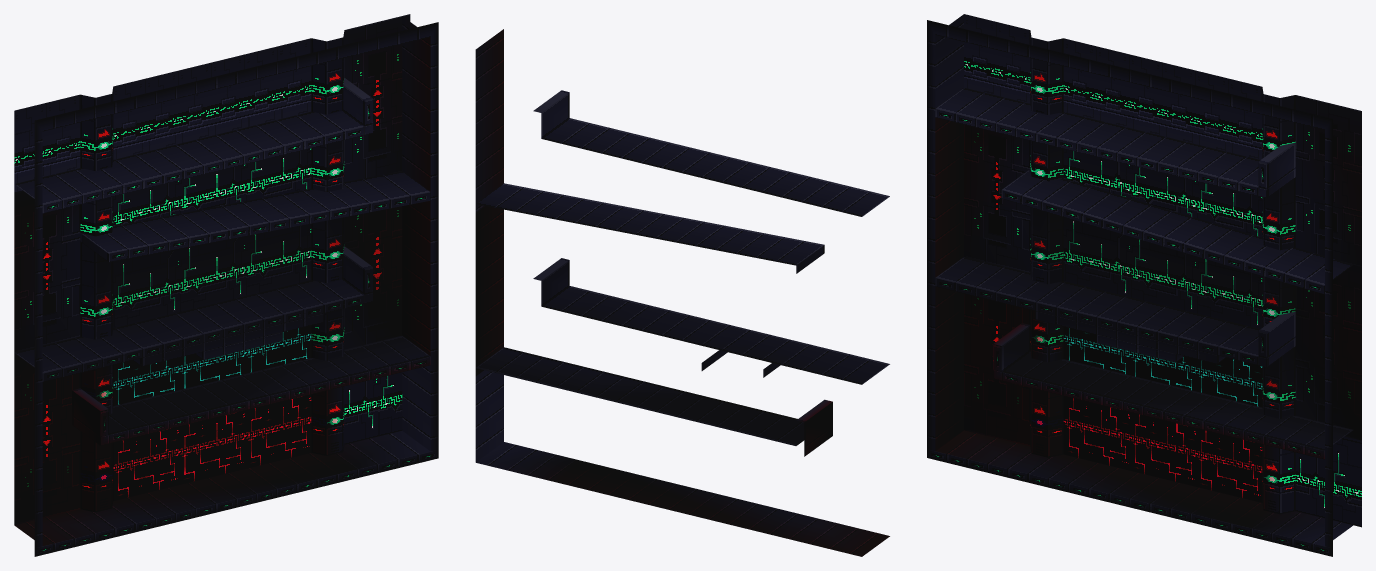
File: RaceToTheFinish.glb
The picture shows the model from 3 angles, left to right: view 1: azimuth 30°, elevation 25°; view 2: azimuth 150°, elevation 25°; view 3: azimuth 330°, elevation 25°; orthographic projection.
Visible parts, largest first — view 1: RaceToTheFinish_1, RaceToTheFinish_13, RaceToTheFinish_Alpha_26, RaceToTheFinish_0, RaceToTheFinish_Alpha_35, RaceToTheFinish_3, RaceToTheFinish_2, RaceToTheFinish_11, RaceToTheFinish_15, RaceToTheFinish_Alpha_27, RaceToTheFinish_Alpha_25, RaceToTheFinish_12 (+1 smaller); view 2: RaceToTheFinish_13, RaceToTheFinish_Alpha_26, RaceToTheFinish_15, RaceToTheFinish_12; view 3: RaceToTheFinish_1, RaceToTheFinish_13, RaceToTheFinish_Alpha_26, RaceToTheFinish_0, RaceToTheFinish_Alpha_35, RaceToTheFinish_3, RaceToTheFinish_2, RaceToTheFinish_15, RaceToTheFinish_11, RaceToTheFinish_Alpha_27, RaceToTheFinish_Alpha_25, RaceToTheFinish_12 (+1 smaller).
Boxes of the visible parts, x1,y1,x2,y2 form: RaceToTheFinish_1: (14, 14, 410, 525); RaceToTheFinish_13: (14, 111, 430, 434); RaceToTheFinish_Alpha_26: (14, 16, 438, 547); RaceToTheFinish_0: (113, 148, 402, 444); RaceToTheFinish_Alpha_35: (80, 32, 344, 512); RaceToTheFinish_3: (113, 325, 311, 500); RaceToTheFinish_2: (14, 38, 311, 192); RaceToTheFinish_11: (42, 126, 430, 443); RaceToTheFinish_15: (81, 171, 430, 253); RaceToTheFinish_Alpha_27: (35, 22, 438, 131); RaceToTheFinish_Alpha_25: (34, 450, 438, 556); RaceToTheFinish_12: (72, 78, 372, 445); RaceToTheFinish_13: (476, 118, 889, 445); RaceToTheFinish_Alpha_26: (475, 29, 889, 556); RaceToTheFinish_15: (476, 183, 824, 265); RaceToTheFinish_12: (533, 90, 832, 456); RaceToTheFinish_1: (964, 95, 1361, 446); RaceToTheFinish_13: (935, 87, 1352, 450); RaceToTheFinish_Alpha_26: (927, 14, 1352, 548); RaceToTheFinish_0: (1063, 149, 1361, 527); RaceToTheFinish_Alpha_35: (1030, 31, 1295, 514); RaceToTheFinish_3: (1063, 326, 1262, 502); RaceToTheFinish_2: (964, 14, 1262, 159); RaceToTheFinish_15: (1002, 169, 1352, 285); RaceToTheFinish_11: (935, 109, 1324, 459); RaceToTheFinish_Alpha_27: (927, 20, 1332, 129); RaceToTheFinish_Alpha_25: (927, 449, 1332, 556); RaceToTheFinish_12: (993, 142, 1295, 380).
Size of the model in its own units: 1852 by 1894 by 225.
Materials: 36 (36 with a texture image).
